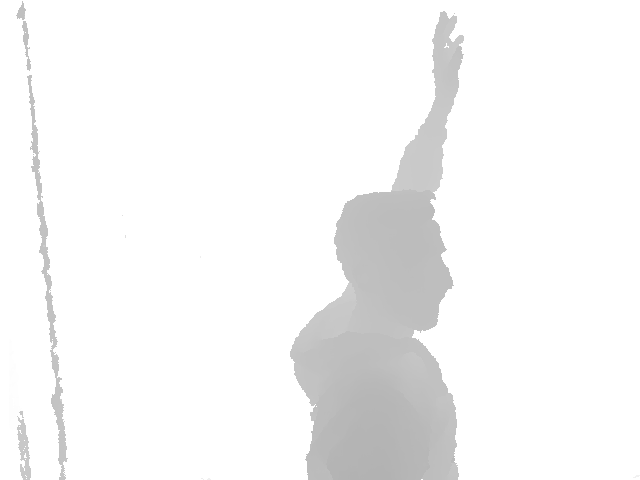hand: (432, 11, 464, 99)
head: (333, 190, 454, 334)
person: (290, 11, 465, 480)
